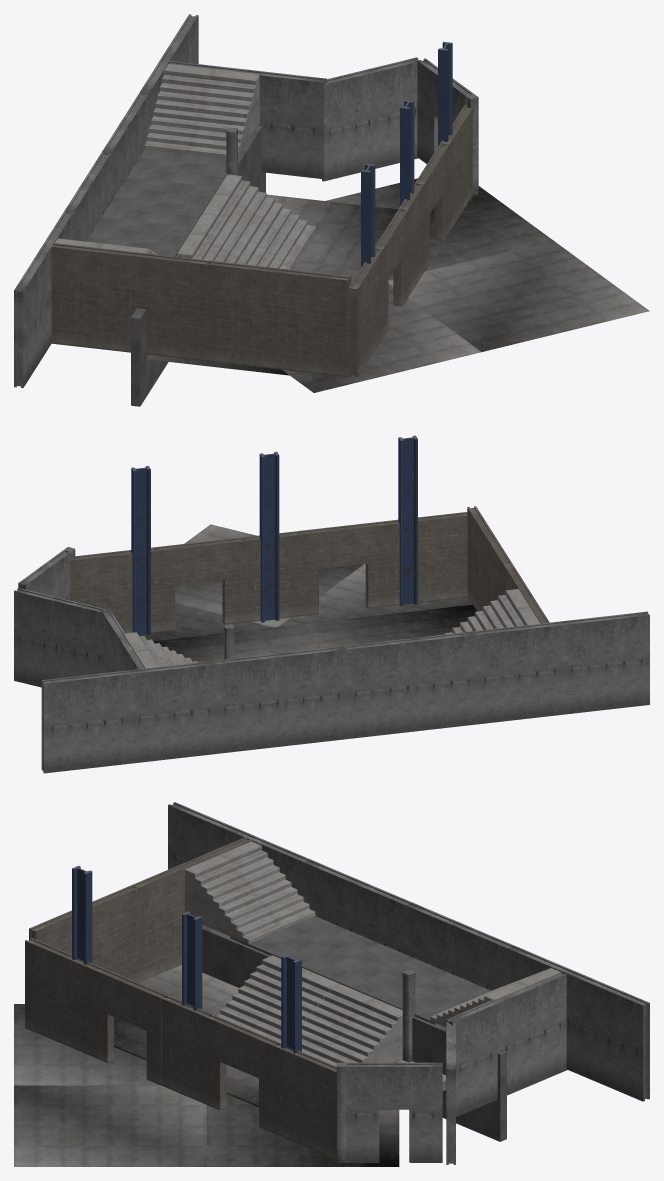
Rendered from BuildingMap_2_2.gltf.
3 views of the same model, one above another, from view 1: azimuth 30°, elevation 25°; view 2: azimuth 150°, elevation 25°; view 3: azimuth 270°, elevation 25° (orthographic). The views are drawn at different scales.
Visible parts, largest first — view 1: SM_Floors_Plain_49, SM_Building_Pieces_WallConcrete6m39, SM_Building_Pieces_WallConcrete6m38, SM_Building_Pieces_WallConcrete6m40, stairs6, SM_Building_Pieces_WallConcrete6m41, SM_Floors_Plain_40, SM_Floors_Plain_47, SM_Floors_Thick_82, stairs5, SM_BP_WallCon_8x14, SM_Floors_Thick_169 (+20 smaller); view 2: SM_BP_WallCon_8x13, SM_BP_WallCon_8x14, SM_BP_WallCon_6x6, SM_BP_WallCon_6x7, SM_Building_Pieces_WallConcrete6m40, SM_Building_Pieces_Wall4m_Door21, SM_BP_WallCon_4x18, SM_Building_Pieces_Wall4m_Door22, SM_Floors_Thick_81, SM_BP_WallCon_4x25, SM_Building_Pieces_2_SteelRudder190, SM_Floors_Thick_82 (+12 smaller); view 3: SM_Floors_Plain_49, SM_Building_Pieces_WallConcrete6m41, SM_BP_WallCon_8x13, stairs4, SM_Building_Pieces_Wall4m_Door7, SM_Floors_Plain_40, stairs5, SM_BP_WallCon_4x18, SM_BP_WallCon_4x25, SM_BP_WallCon_6x7, SM_BP_WallCon_6x6, SM_Floors_Plain_47 (+23 smaller).
Part boxes in pixels (x1,y1,x2,y2): SM_Floors_Plain_49: (388,240,649,351); SM_Building_Pieces_WallConcrete6m39: (50,243,210,361); SM_Building_Pieces_WallConcrete6m38: (208,260,351,377); SM_Building_Pieces_WallConcrete6m40: (322,57,421,181); stairs6: (144,64,259,158); SM_Building_Pieces_WallConcrete6m41: (169,61,326,178); SM_Floors_Plain_40: (326,178,552,280); SM_Floors_Plain_47: (282,284,481,392); SM_Floors_Thick_82: (266,194,397,282); stairs5: (202,174,315,268); SM_BP_WallCon_8x14: (14,211,73,387); SM_Floors_Thick_169: (96,187,211,237); SM_BP_WallCon_8x13: (41,660,217,773); SM_BP_WallCon_8x14: (474,611,649,724); SM_BP_WallCon_6x6: (215,646,346,753); SM_BP_WallCon_6x7: (345,631,476,738); SM_Building_Pieces_WallConcrete6m40: (14,588,106,687); SM_Building_Pieces_Wall4m_Door21: (154,537,243,632); SM_BP_WallCon_4x18: (385,512,467,606); SM_Building_Pieces_Wall4m_Door22: (298,521,386,616); SM_Floors_Thick_81: (302,604,476,648); SM_BP_WallCon_4x25: (70,547,156,633); SM_Building_Pieces_2_SteelRudder190: (259,451,279,622); SM_Floors_Thick_82: (153,624,317,662); SM_Floors_Plain_49: (14,1085,206,1166); SM_Building_Pieces_WallConcrete6m41: (446,972,567,1116); SM_BP_WallCon_8x13: (507,945,649,1101); stairs4: (185,841,315,943); SM_Building_Pieces_Wall4m_Door7: (346,1062,442,1162); SM_Floors_Plain_40: (206,1094,399,1166); stairs5: (302,984,402,1066); SM_BP_WallCon_4x18: (25,938,99,1056); SM_BP_WallCon_4x25: (273,1043,336,1159); SM_BP_WallCon_6x7: (303,859,411,954); SM_BP_WallCon_6x6: (405,902,513,990); SM_Floors_Plain_47: (14,1004,160,1085).
Size of the model in its own units: 26.42 by 10.07 by 26.41.
Materials: 10 (10 with a texture image).
